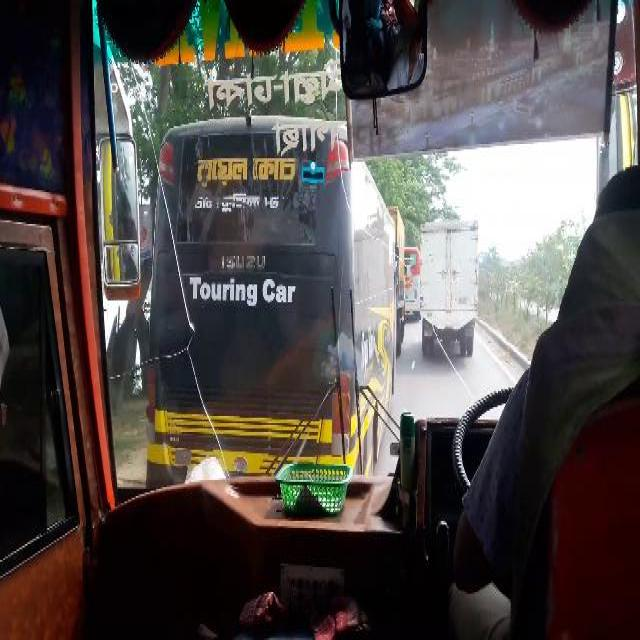18: (419, 217, 479, 352), (394, 205, 404, 353)
Truck: (152, 126, 396, 489), (404, 245, 418, 318)
